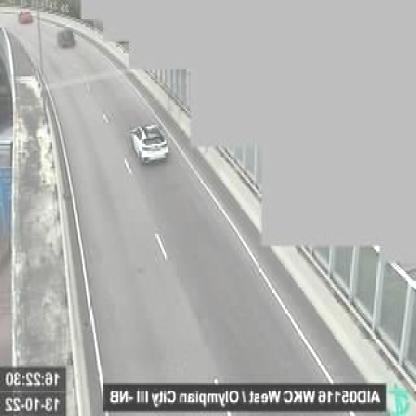Car: (129, 122, 172, 166), (57, 26, 77, 47)
